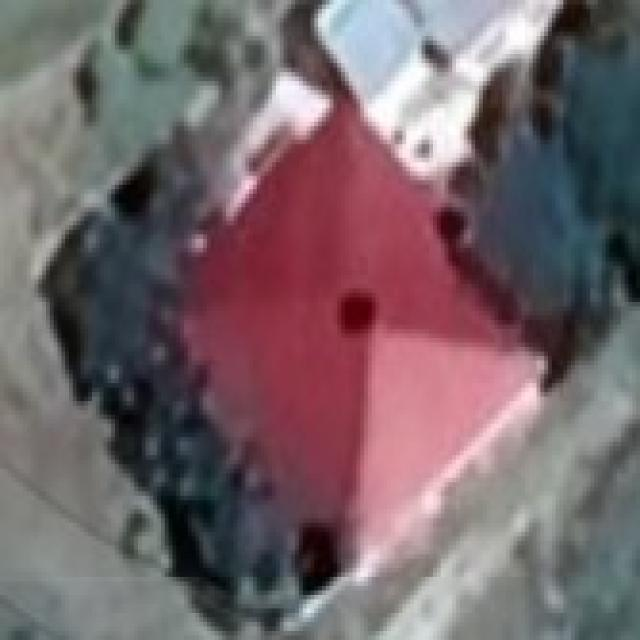Batiment: (183, 98, 537, 565)
